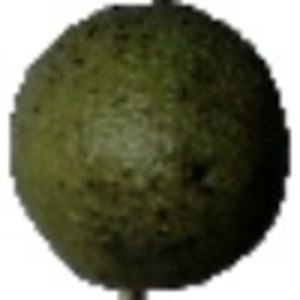abacate: (5, 3, 290, 291)
